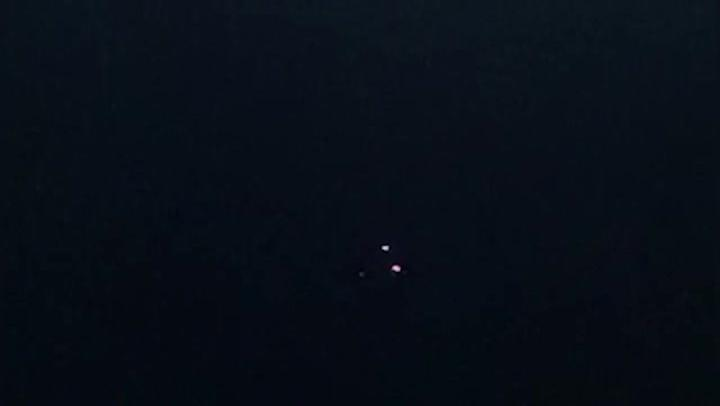Plane: (369, 234, 420, 289)
